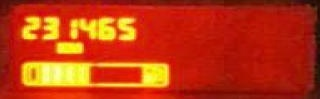1: (69, 15, 75, 39)
2: (20, 14, 39, 40)
3: (40, 14, 59, 39)
4: (77, 15, 93, 39)
5: (115, 15, 135, 40)
6: (97, 15, 113, 40)
X: (53, 39, 67, 54), (67, 40, 82, 54)
